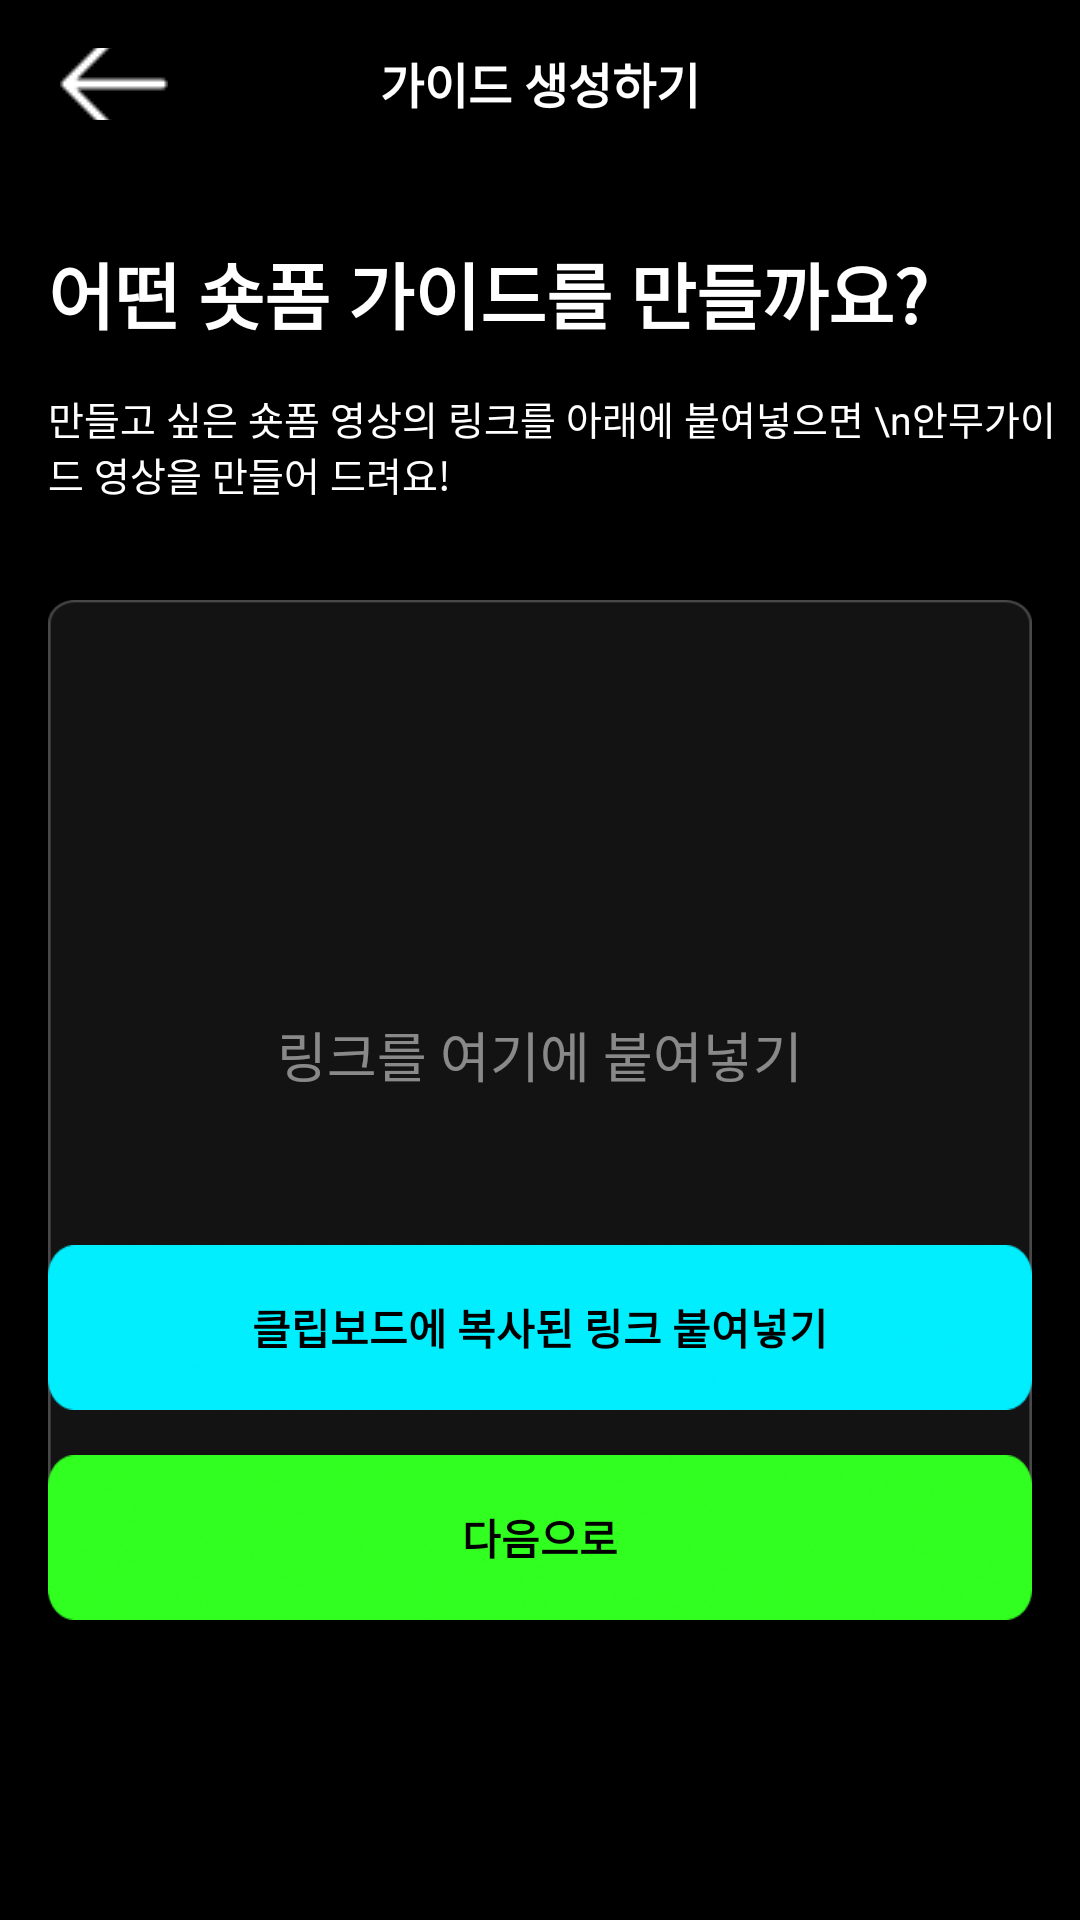

Locate icon controls on the screen. Image size 1080px x 1920px, boxes as (x1, y1, x2, y2).
Back: (60, 48, 168, 120)
